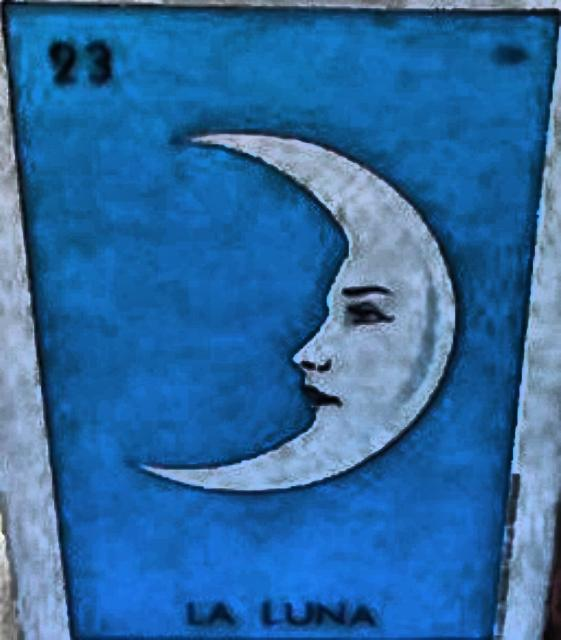La Luna: (5, 6, 559, 636)
